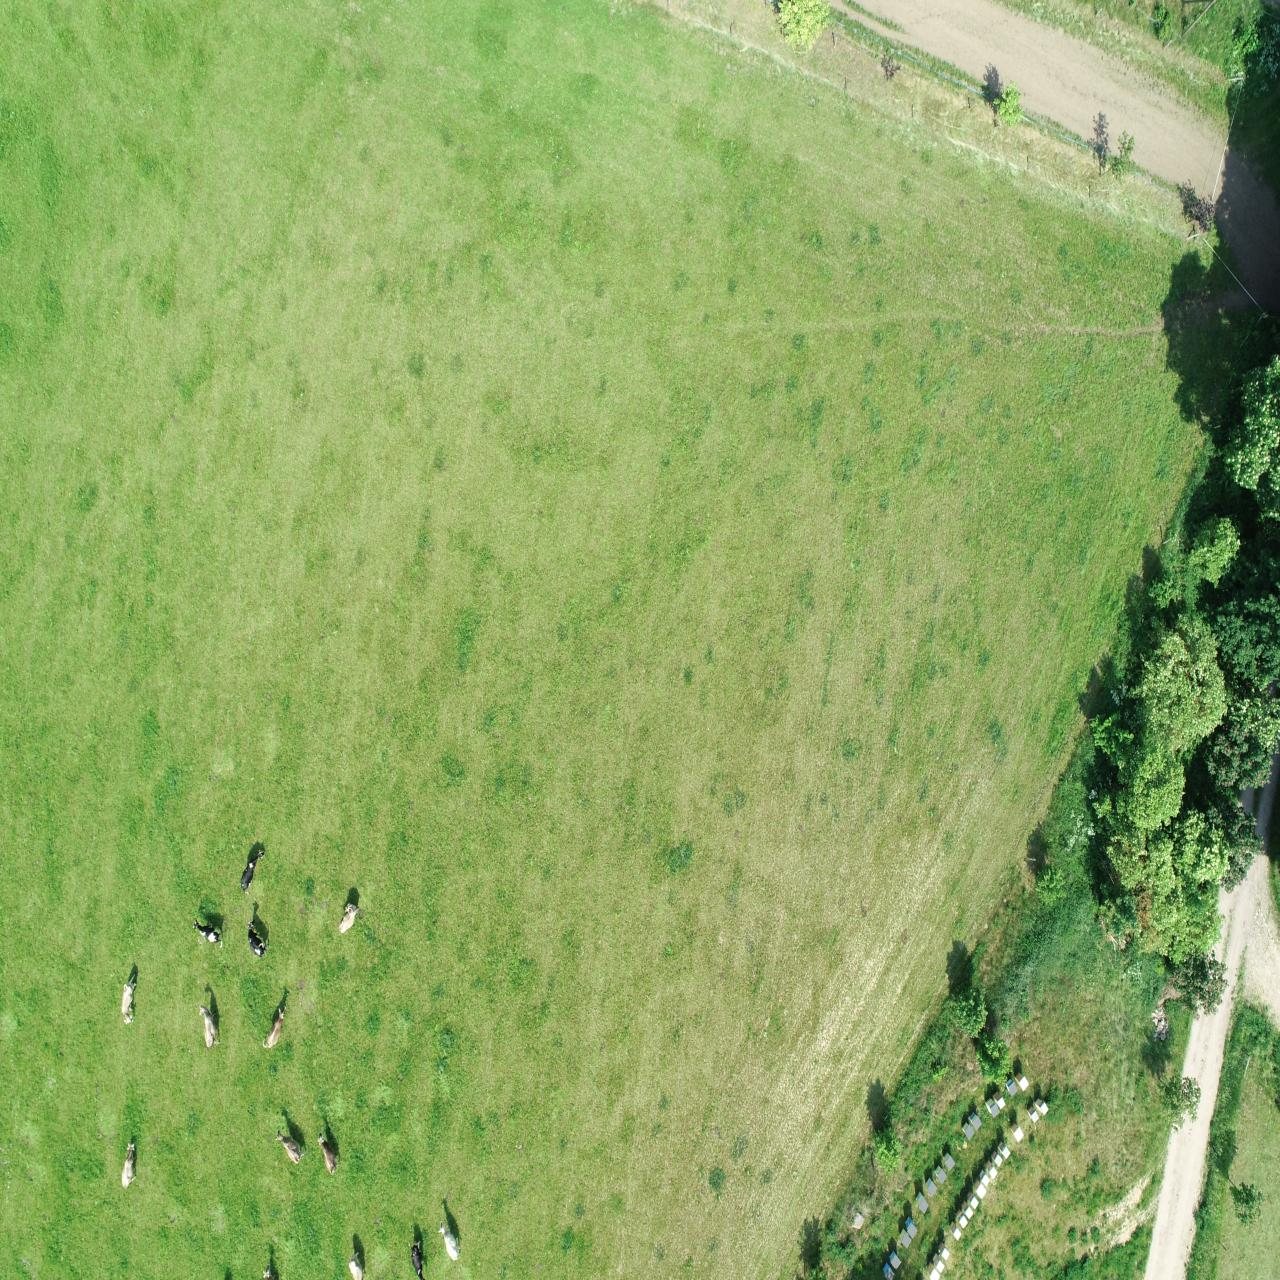cow: (260, 1002, 291, 1051), (271, 1128, 308, 1167), (315, 1129, 343, 1179), (436, 1218, 467, 1264), (238, 847, 266, 897), (117, 969, 141, 1027), (196, 1002, 223, 1051), (190, 917, 224, 954), (120, 1136, 139, 1193), (244, 918, 268, 964), (406, 1238, 429, 1280), (336, 901, 362, 935), (346, 1248, 368, 1280)
